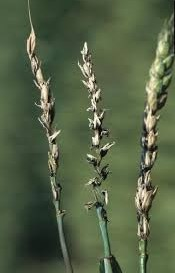Wheat Loose Smut: (19, 33, 174, 225)
